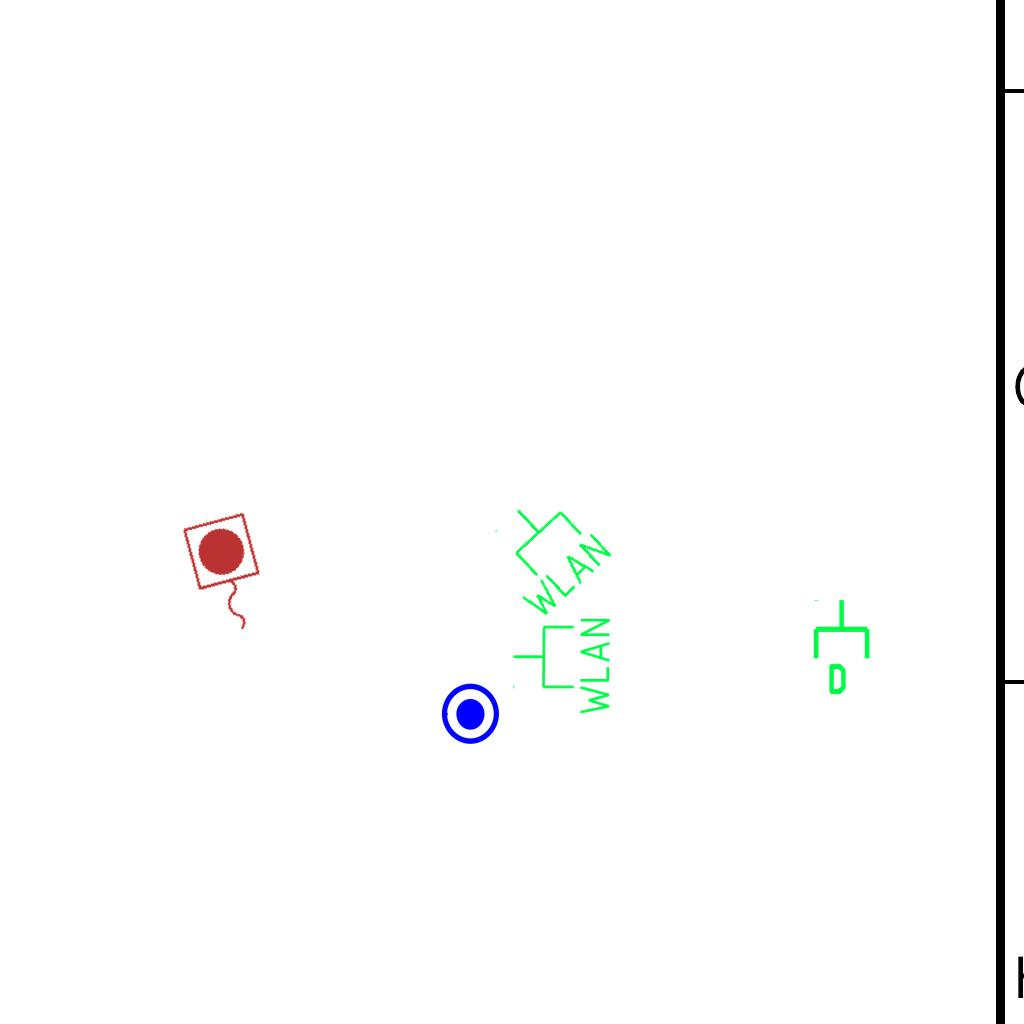Datenanschluss_einfach: (809, 597, 878, 697)
Taster: (435, 681, 501, 747)
WLAN: (470, 478, 618, 627), (510, 614, 614, 719)
Zugtaster: (176, 507, 278, 645)
